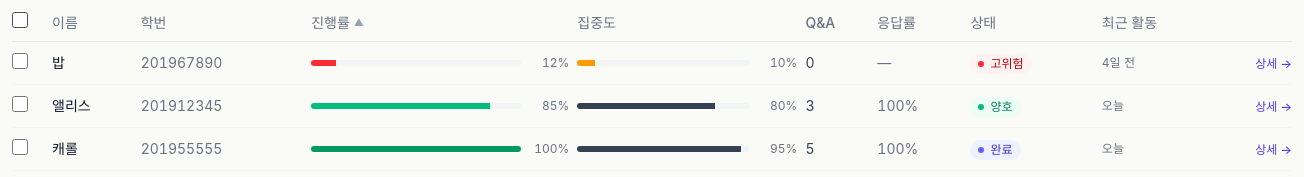
Test case: LearnerTable › select-all checkbox selects every visible row
What coordinates should you click on to do the following:
click the checkbox with test id "learner-table-select-all"
I would click on:
 (20, 20)
Its box is [12,12,28,28].
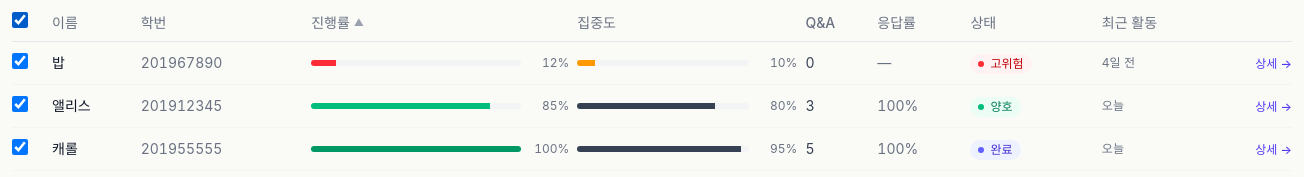
Now the checkbox with test id "learner-row-select-u-alice" is checked, box [12,96,28,112]
